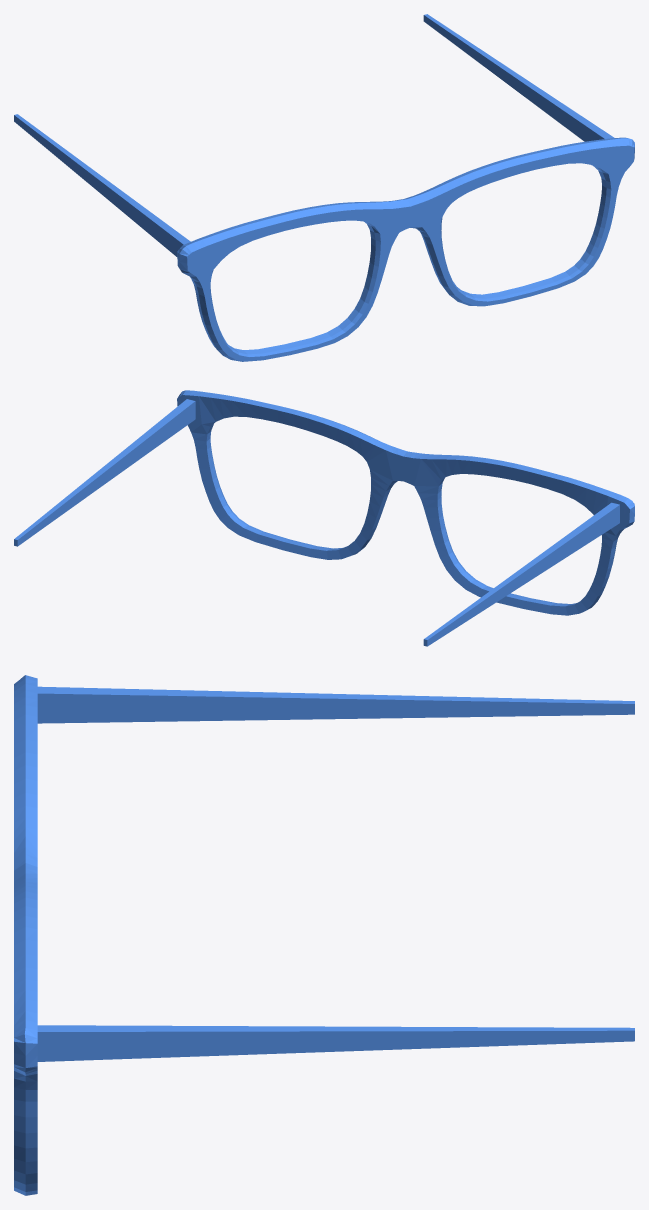
Rendered from Glasses.fbx.
The picture shows the model from 3 angles, top to bottom: view 1: azimuth 30°, elevation 25°; view 2: azimuth 150°, elevation 25°; view 3: azimuth 270°, elevation 25°; orthographic projection. The views are drawn at different scales.
Visible parts, largest first — view 1: Glasses; view 2: Glasses; view 3: Glasses.
Part boxes in pixels (box(x1,y1,x2,y2)): Glasses: box(14, 14, 634, 361); Glasses: box(14, 390, 634, 646); Glasses: box(14, 675, 634, 1195).
Bounding box in the file's own units: 15.79 × 4.68 × 11.41.
